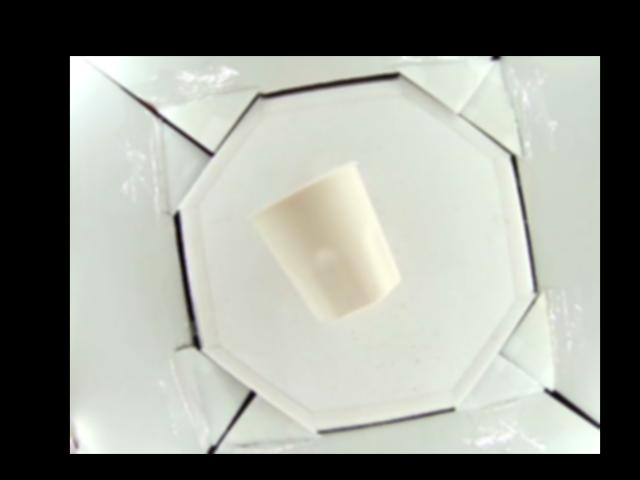Cup: (252, 160, 401, 320)
